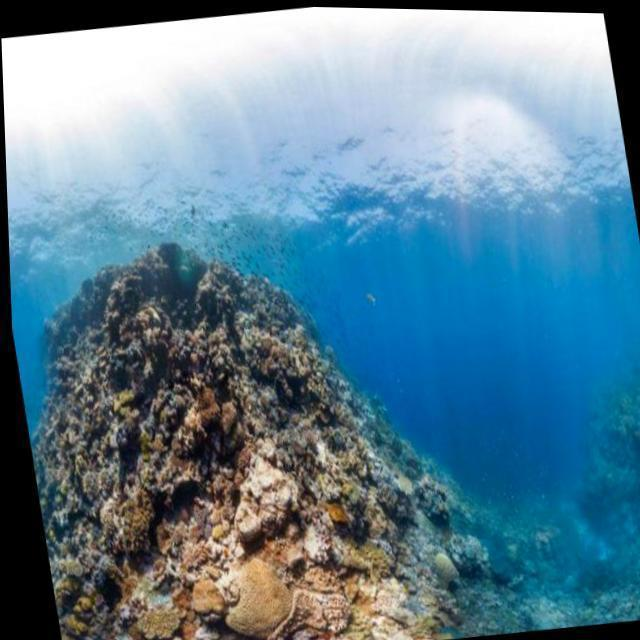Dead Coral: (23, 231, 463, 640)
